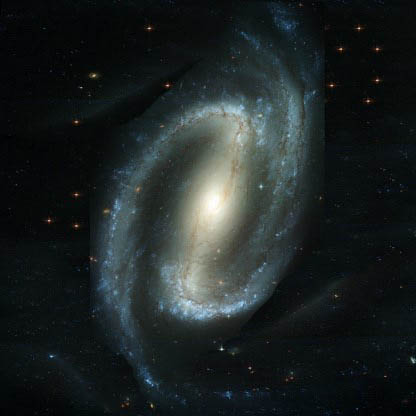NGC 1300: (90, 6, 327, 394)
